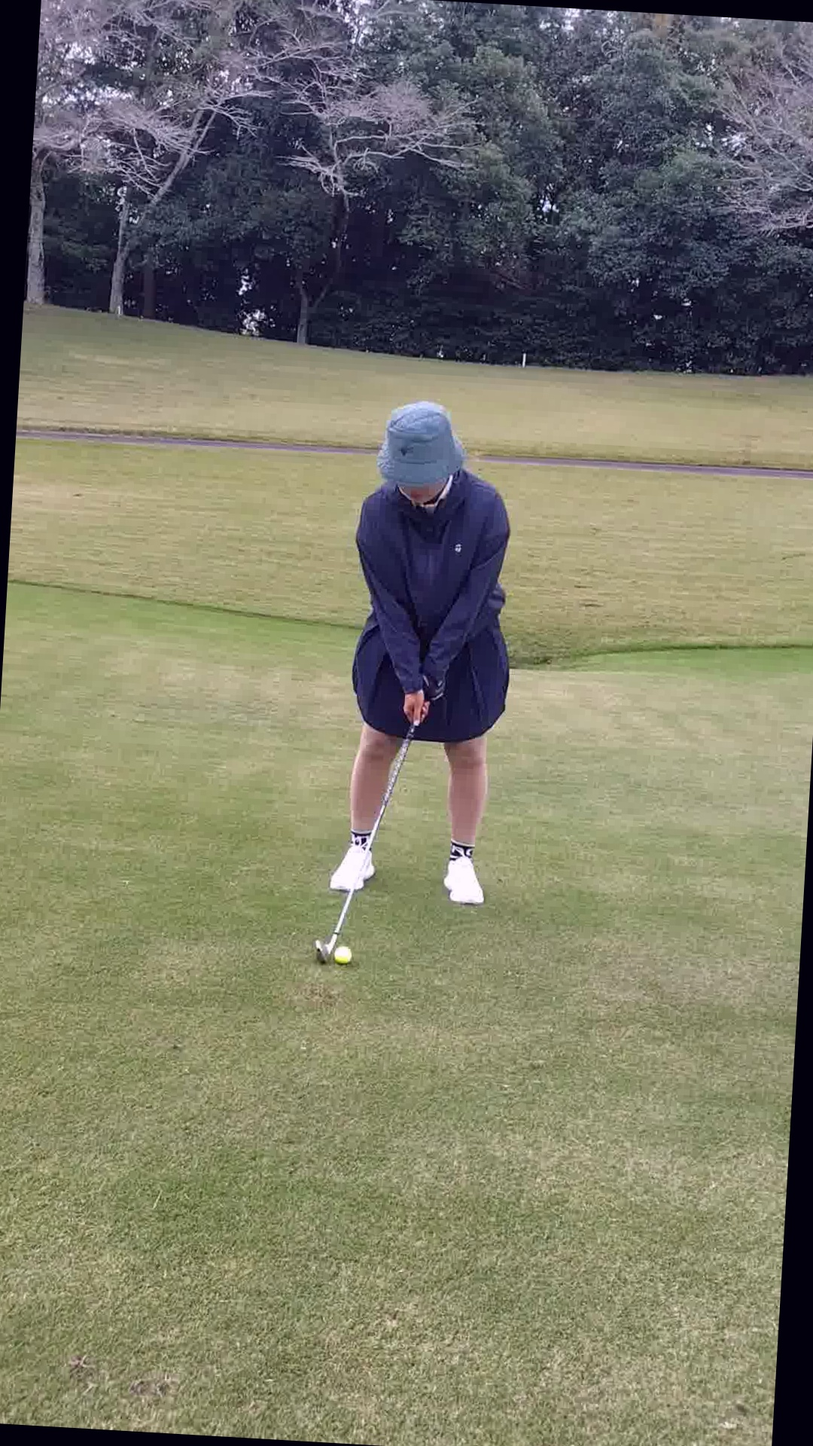clubhead: (197, 890, 426, 1017)
